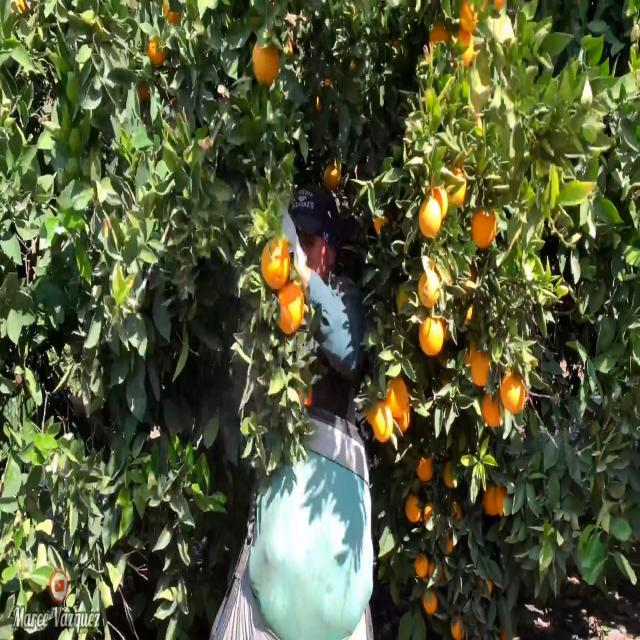Jeruk Sudah Matang: (271, 280, 308, 338), (258, 236, 290, 288), (249, 38, 280, 86), (382, 374, 410, 420), (500, 371, 526, 414), (418, 197, 442, 240), (143, 36, 170, 72), (372, 404, 395, 446), (418, 317, 442, 357), (472, 209, 496, 249), (445, 167, 468, 207), (481, 391, 502, 434), (417, 270, 440, 308), (322, 160, 347, 193), (482, 480, 500, 520), (472, 352, 492, 386), (403, 492, 423, 524), (442, 458, 460, 490), (416, 451, 434, 479), (414, 551, 430, 580), (450, 617, 466, 640), (422, 592, 438, 614)
